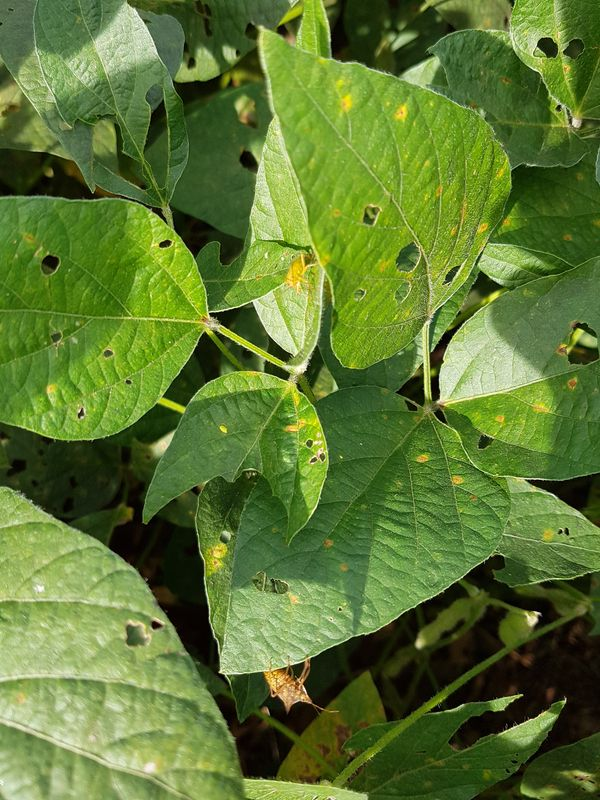Euschistus_heros_adulto: (250, 648, 343, 728)
Euschistus_heros_ninfa: (259, 246, 336, 311)
